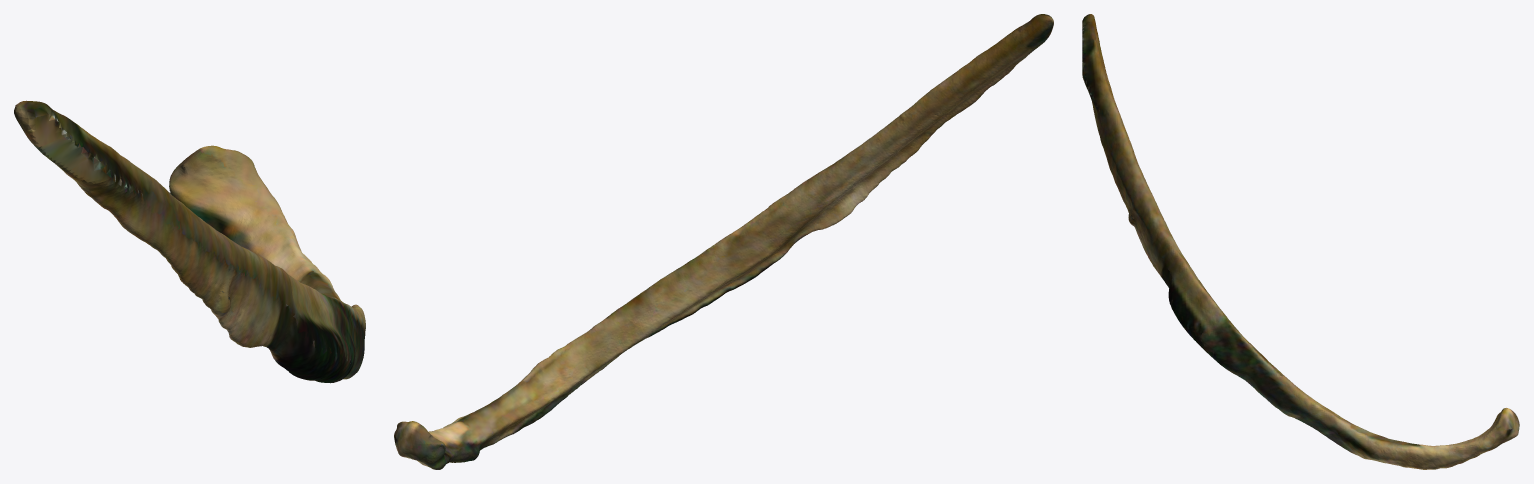
The model's file is 7r_ribs.glb.
3 views of the same model, side by side, from view 1: azimuth 30°, elevation 25°; view 2: azimuth 150°, elevation 25°; view 3: azimuth 270°, elevation 25° (orthographic). The views are drawn at different scales.
Visible parts, largest first — view 1: Node; view 2: Node; view 3: Node.
Part boxes in pixels (x1=…): Node: x1=14, y1=100, x2=365, y2=383; Node: x1=394, y1=14, x2=1053, y2=469; Node: x1=1082, y1=14, x2=1519, y2=469.
Size of the model in its own units: 47.97 by 42.79 by 55.37.
1 material, 1 textured.
